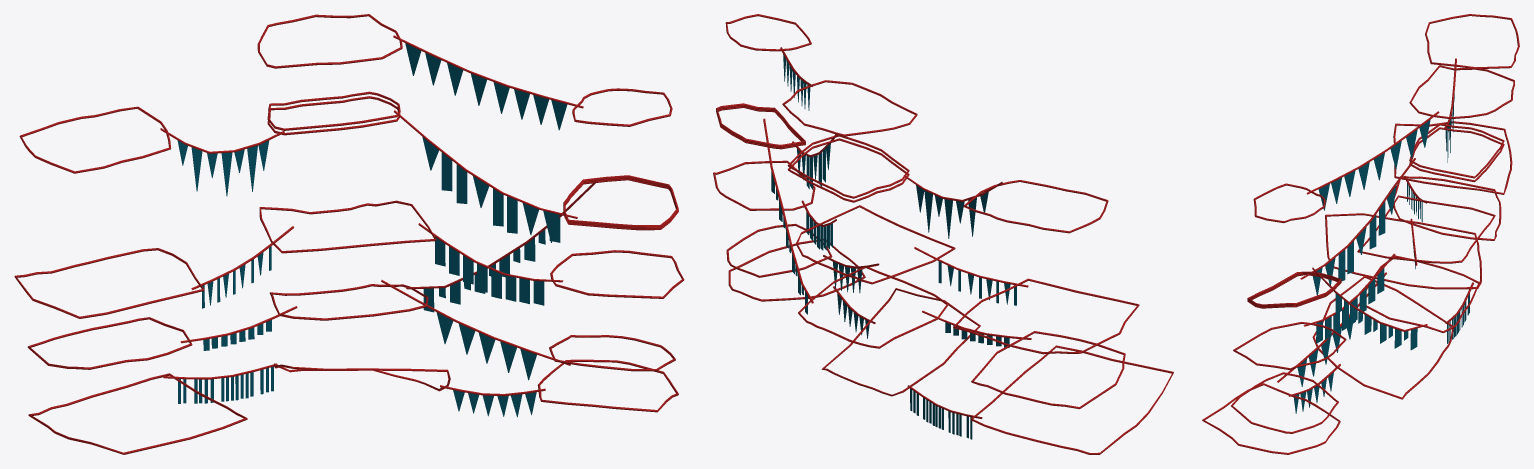
Rendered from Finger_Ropes_EX.fbx.
The picture shows the model from 3 angles, left to right: view 1: azimuth 30°, elevation 25°; view 2: azimuth 150°, elevation 25°; view 3: azimuth 270°, elevation 25°; orthographic projection. The views are drawn at different scales.
Parts seen in each view (by area): view 1: Finger_Ropes, Banners; view 2: Finger_Ropes, Banners; view 3: Finger_Ropes, Banners.
Part boxes in pixels (bbox=[...]): Finger_Ropes: bbox=[14, 14, 684, 454]; Banners: bbox=[177, 43, 567, 417]; Finger_Ropes: bbox=[713, 14, 1173, 454]; Banners: bbox=[771, 54, 1016, 439]; Finger_Ropes: bbox=[1202, 14, 1519, 454]; Banners: bbox=[1293, 94, 1469, 413].
Size of the model in its own units: 103 by 60.73 by 61.36.
